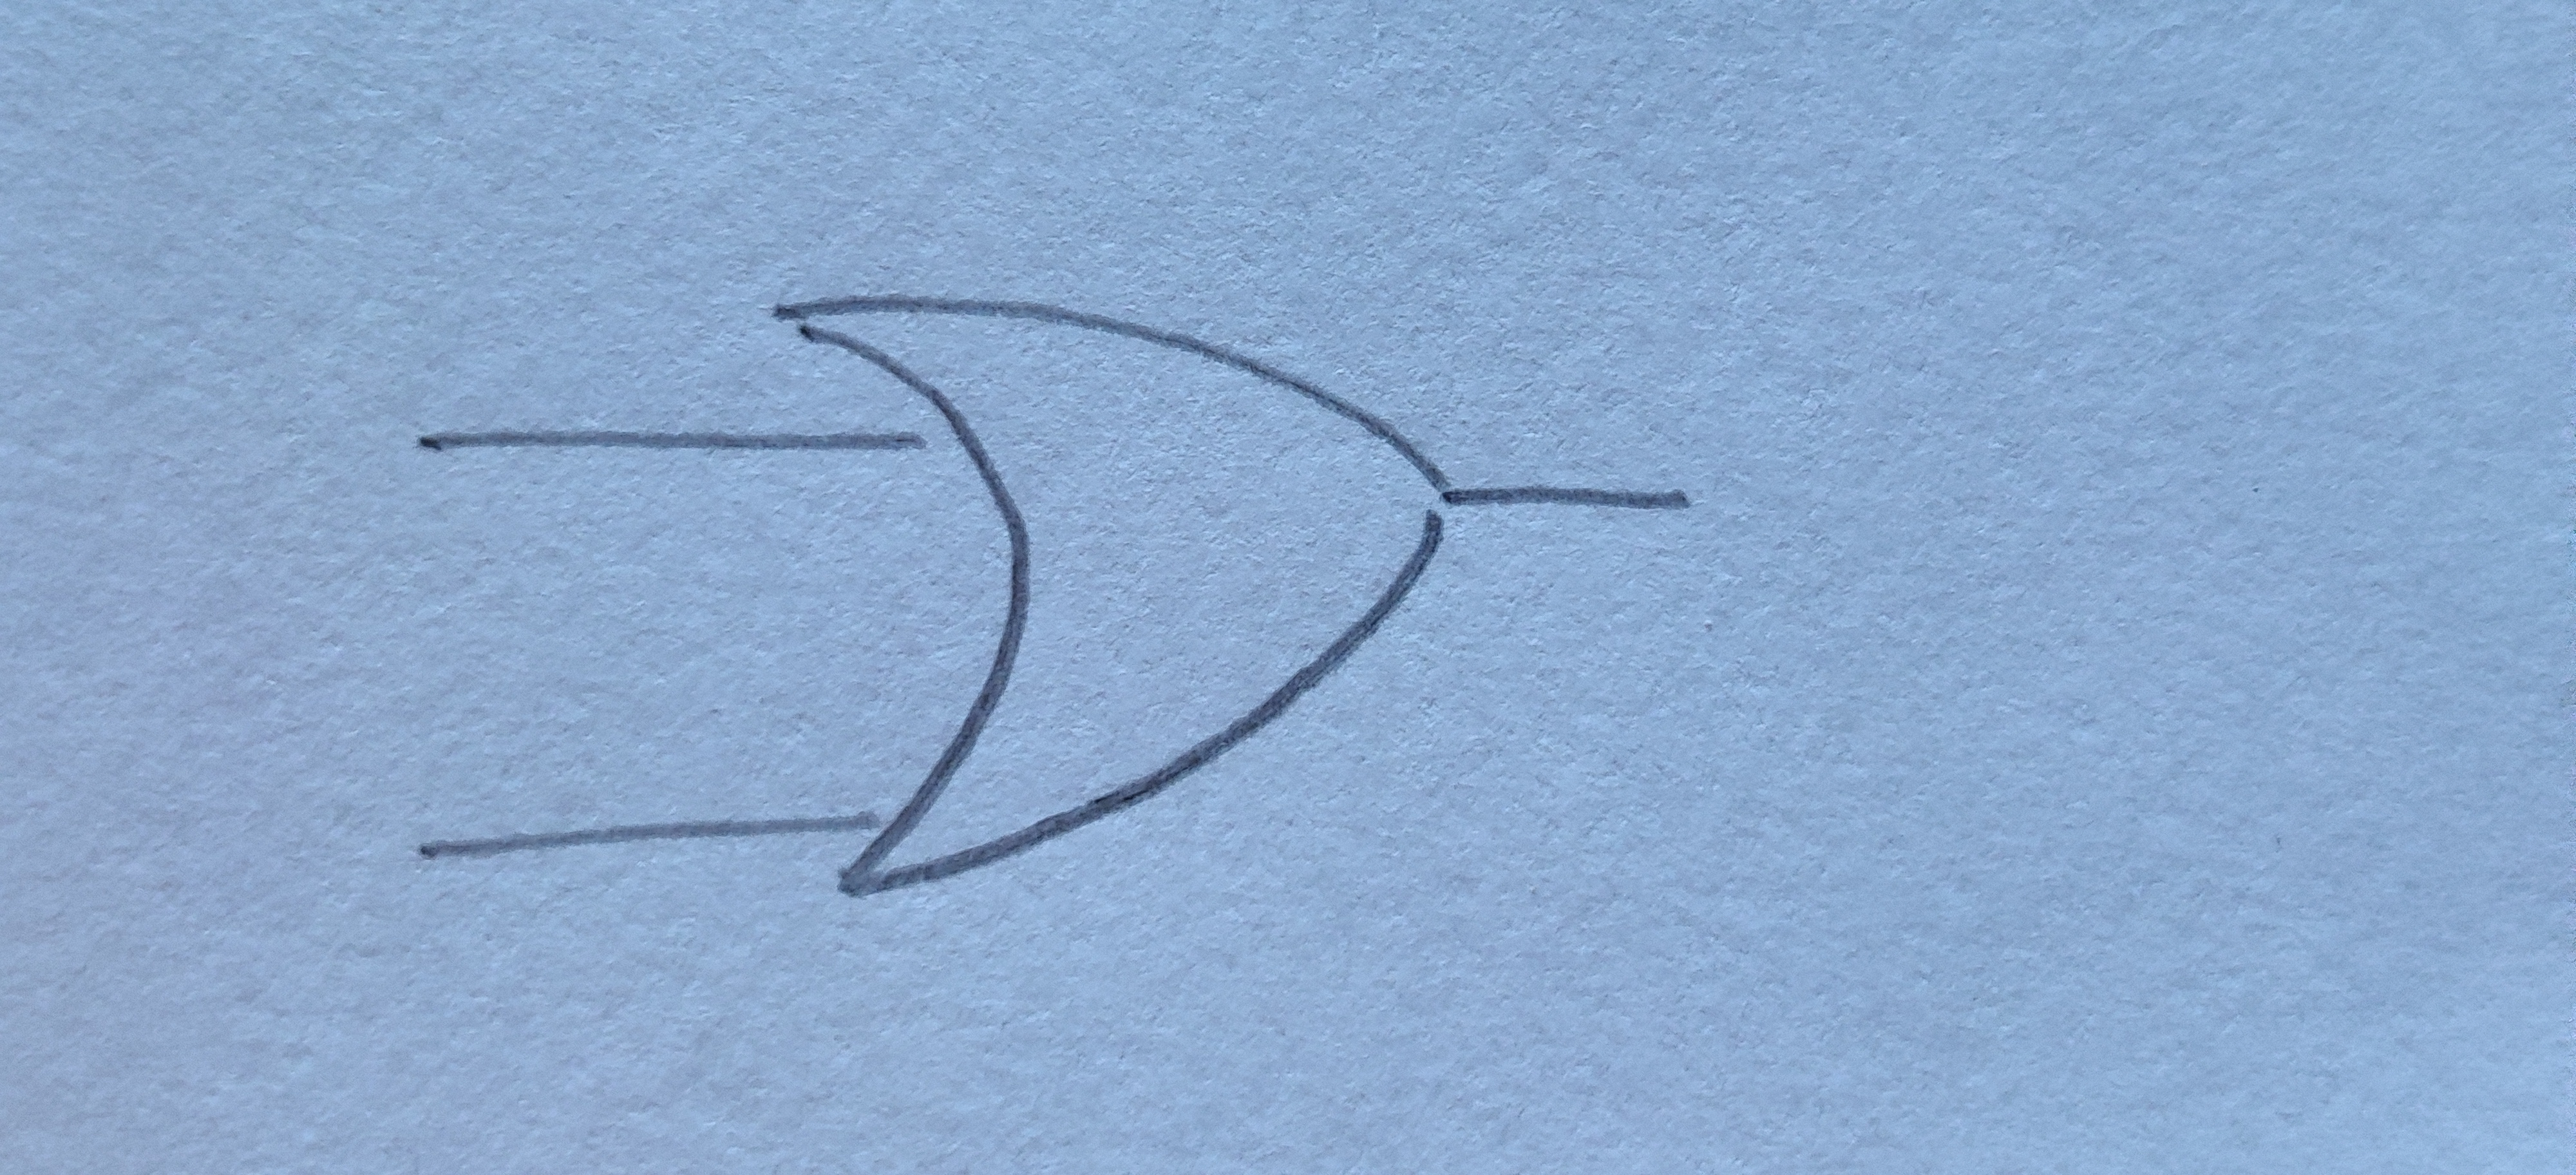or: (780, 296, 1454, 892)
